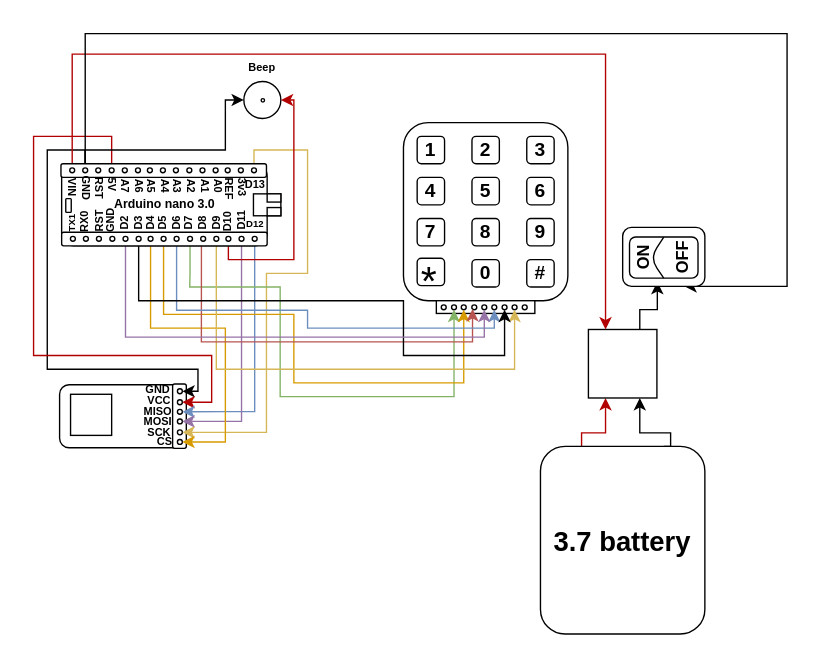
Image size: 822x659. Some labels were removed from this diagram. The centre of each missing label's shape, as x and y in pixels:
"3.7V to 5V" goes at point (622, 363).
"SD" goes at point (90, 414).
